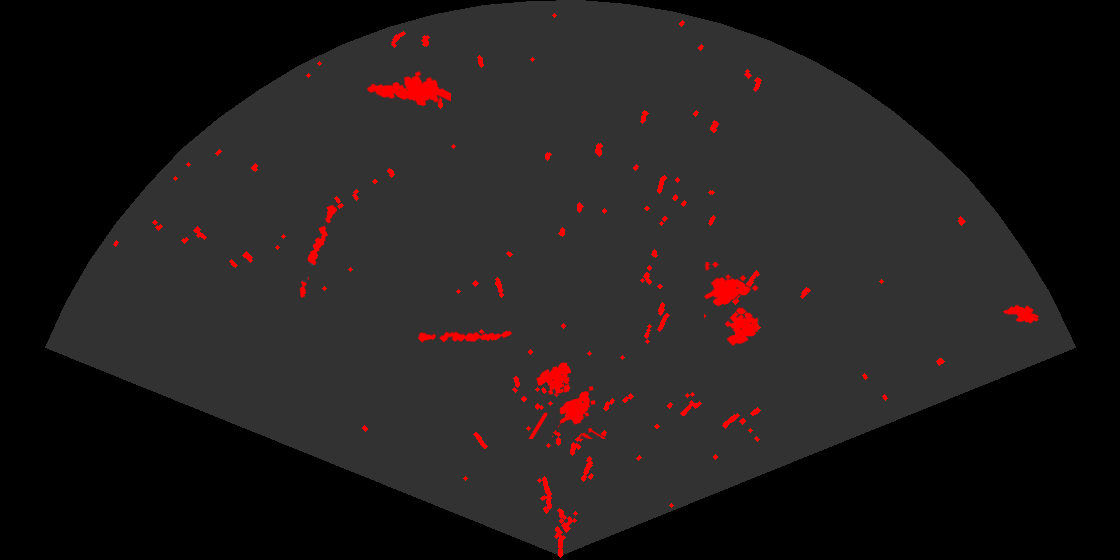AUV: (1001, 303, 1041, 325)
cage: (527, 361, 607, 439), (704, 262, 760, 348)
chain: (298, 203, 339, 299), (417, 329, 513, 344)
frogman: (365, 69, 451, 108)
